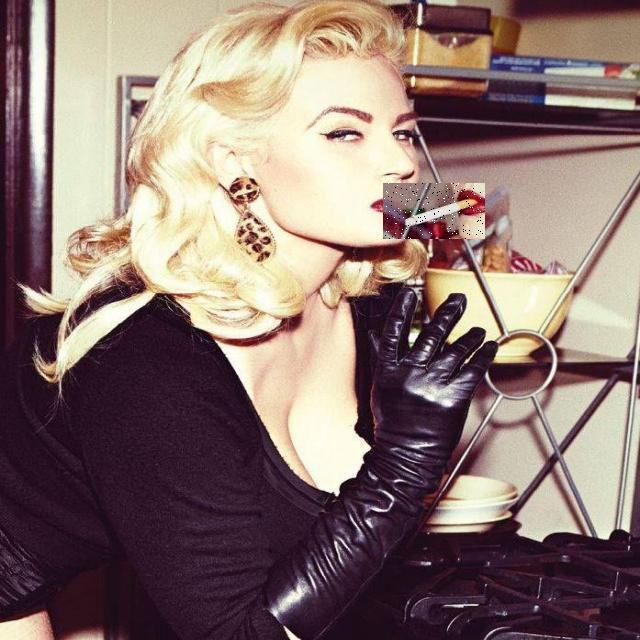smoking: (383, 183, 485, 239)
